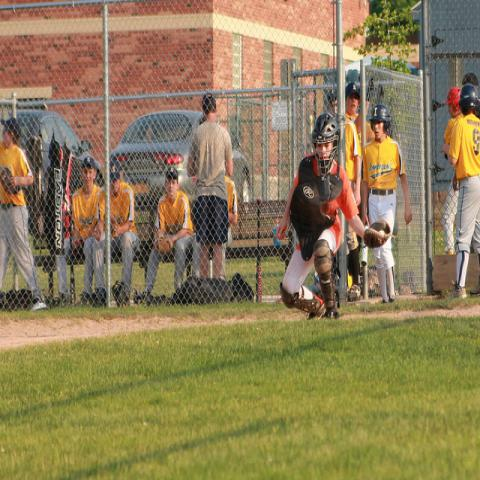car: (110, 109, 250, 226), (14, 112, 103, 250)
